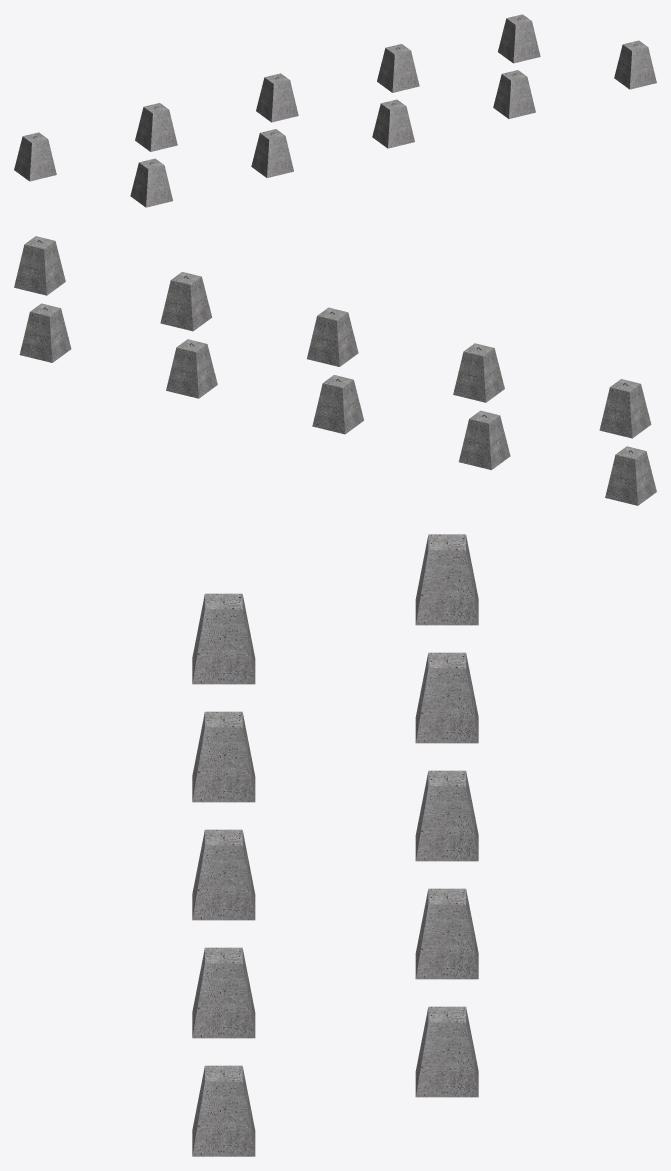
Rendered from DragonTeeth01.obj.
3 views of the same model, one above another, from view 1: azimuth 30°, elevation 25°; view 2: azimuth 150°, elevation 25°; view 3: azimuth 270°, elevation 25° (orthographic). The views are drawn at different scales.
Parts seen in each view (by area): view 1: DragonTeeth01; view 2: DragonTeeth01; view 3: DragonTeeth01.
Part boxes in pixels (box(x1,y1,x2,y2)): DragonTeeth01: box(14, 14, 656, 207); DragonTeeth01: box(14, 236, 656, 505); DragonTeeth01: box(192, 534, 478, 1156).
Bounding box in the file's own units: 23.62 × 1.46 × 5.12.
